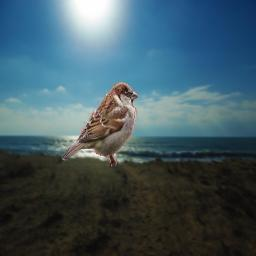Sparrow: (61, 82, 138, 167)
